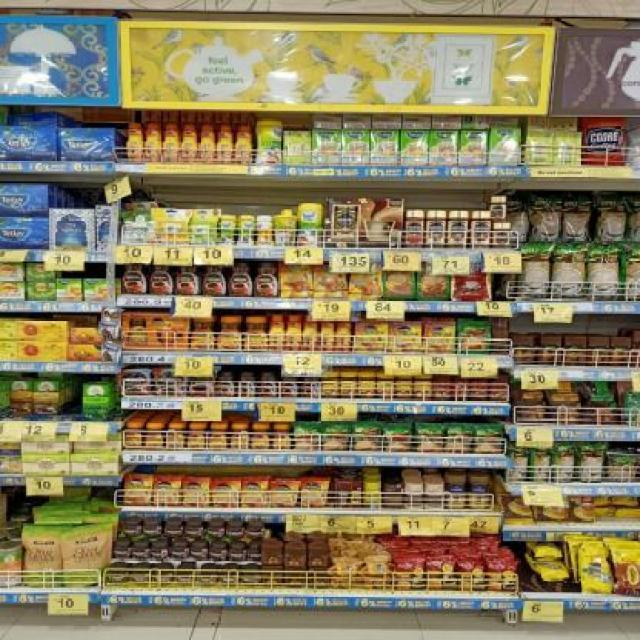Coffee: (314, 261, 346, 298), (279, 261, 311, 297), (350, 263, 382, 299), (355, 319, 387, 352), (423, 320, 455, 352), (189, 316, 217, 352), (216, 317, 243, 353), (388, 322, 420, 352), (253, 261, 279, 297), (227, 261, 253, 297), (153, 369, 185, 398), (117, 369, 150, 397), (121, 261, 148, 295), (124, 473, 152, 505), (174, 263, 201, 296), (202, 264, 228, 296), (427, 211, 448, 250), (243, 317, 267, 351), (211, 479, 239, 508), (239, 479, 267, 508), (299, 479, 327, 507), (270, 478, 297, 507), (153, 476, 179, 506), (149, 262, 173, 294), (448, 210, 467, 249), (188, 369, 214, 397), (183, 477, 209, 505), (472, 212, 491, 250), (302, 314, 320, 352), (126, 123, 144, 159), (318, 316, 336, 352), (236, 126, 253, 162), (287, 314, 303, 352), (336, 317, 353, 351), (182, 125, 198, 161), (269, 314, 285, 348), (165, 124, 179, 162), (218, 125, 232, 163), (250, 425, 272, 449), (189, 423, 209, 449), (230, 424, 250, 450), (200, 125, 214, 162), (147, 125, 161, 161), (217, 372, 238, 396), (493, 223, 512, 249), (490, 196, 508, 222), (145, 423, 163, 449), (273, 423, 291, 449), (125, 422, 144, 446), (168, 423, 187, 447), (238, 373, 258, 395), (210, 424, 228, 448), (258, 373, 276, 396), (280, 375, 298, 396), (301, 377, 319, 398), (107, 568, 129, 584), (164, 521, 185, 537), (142, 519, 160, 537), (122, 519, 141, 536), (171, 543, 190, 560), (228, 523, 246, 540), (132, 568, 150, 585), (221, 569, 239, 586), (208, 521, 227, 537), (176, 570, 195, 586), (199, 570, 218, 586), (186, 521, 204, 537), (248, 522, 266, 538), (114, 542, 132, 558), (151, 544, 169, 560), (133, 544, 151, 560), (190, 545, 208, 561), (228, 545, 246, 561), (155, 569, 173, 585), (243, 570, 261, 586), (211, 545, 228, 561), (249, 544, 263, 562)
